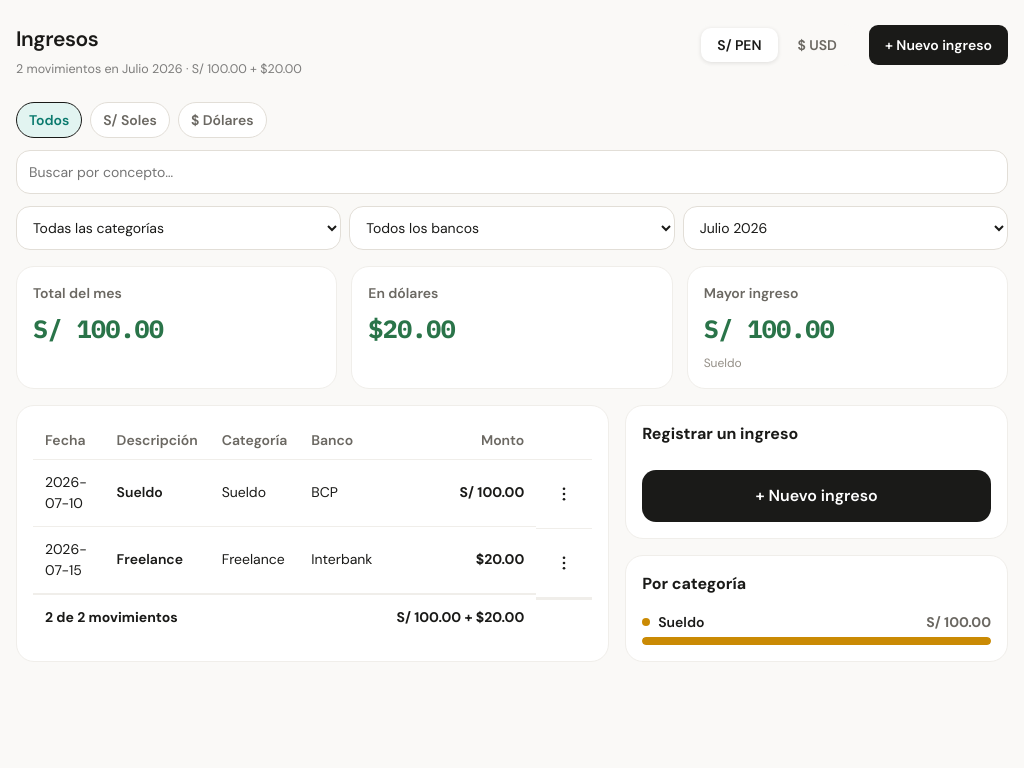
Scenario: IngresosView — tabla, filtros y stat cards (rediseño "Caudal", Fase 2) › elegir "Todos los meses" muestra los 3 ingresos
This screenshot has width=1024, height=768.
Select "Todos los meses" in the dropdown named "Filtrar por mes" at (845, 228), box x1=683 y1=206 x2=1008 y2=250
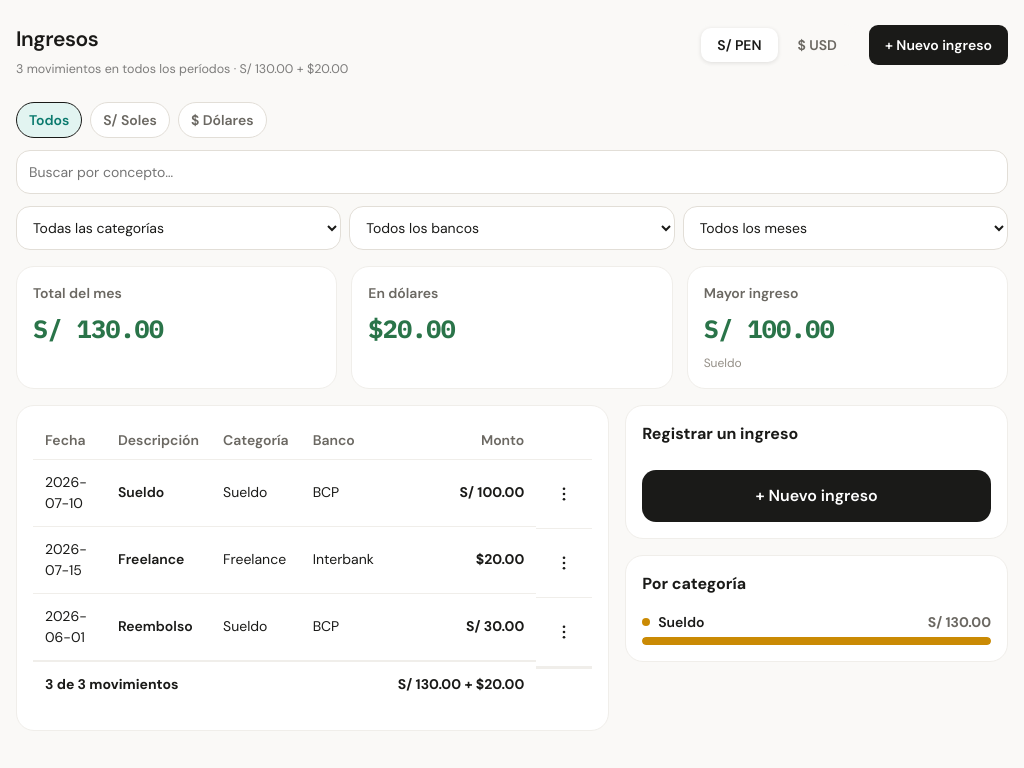
Expected: the text "Reembolso" is shown, x1=106 y1=593 x2=211 y2=661
